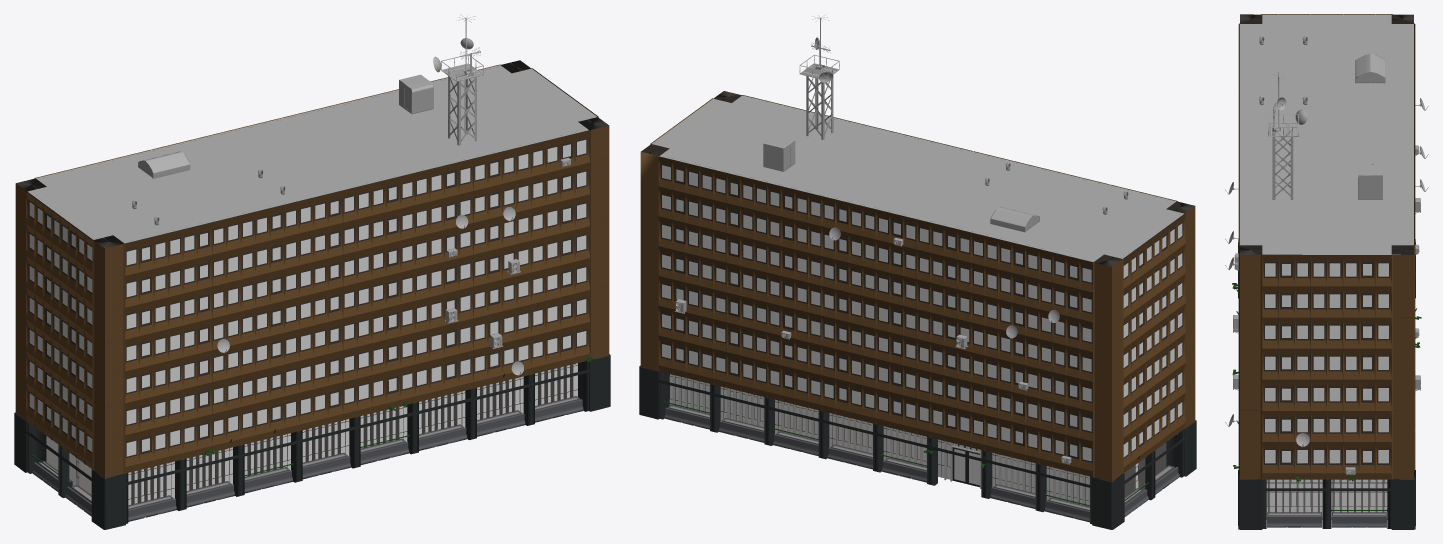
The model's file is 03_past.fbx.
3 views of the same model, side by side, from view 1: azimuth 30°, elevation 25°; view 2: azimuth 150°, elevation 25°; view 3: azimuth 270°, elevation 25° (orthographic). The views are drawn at different scales.
Visible parts, largest first — view 1: 03_ground_floor_wall_01.007; view 2: 03_ground_floor_wall_01.007; view 3: 03_ground_floor_wall_01.007.
Part boxes in pixels (x1=…): 03_ground_floor_wall_01.007: x1=14, y1=14, x2=610, y2=529; 03_ground_floor_wall_01.007: x1=639, y1=14, x2=1196, y2=529; 03_ground_floor_wall_01.007: x1=1225, y1=14, x2=1428, y2=529.
Size of the model in its own units: 5183 by 3841 by 1794.
